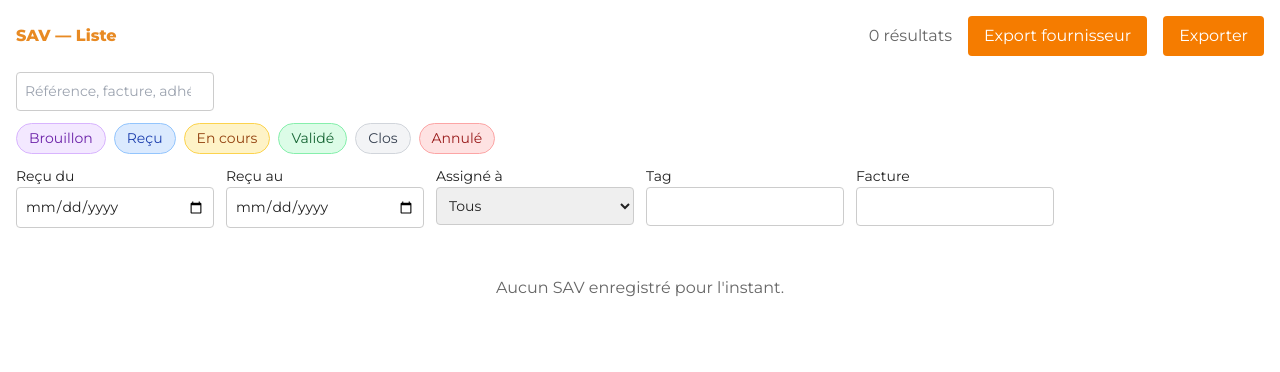
SavListView — Export CSV/XLSX (Story 5.4 AC #11) › TC-03: clic CSV → fetch /api/reports/export-csv?...&format=csv + toast success
Click the button with test id "btn-export-csv".
click(1214, 36)  # box x1=1163 y1=16 x2=1264 y2=56
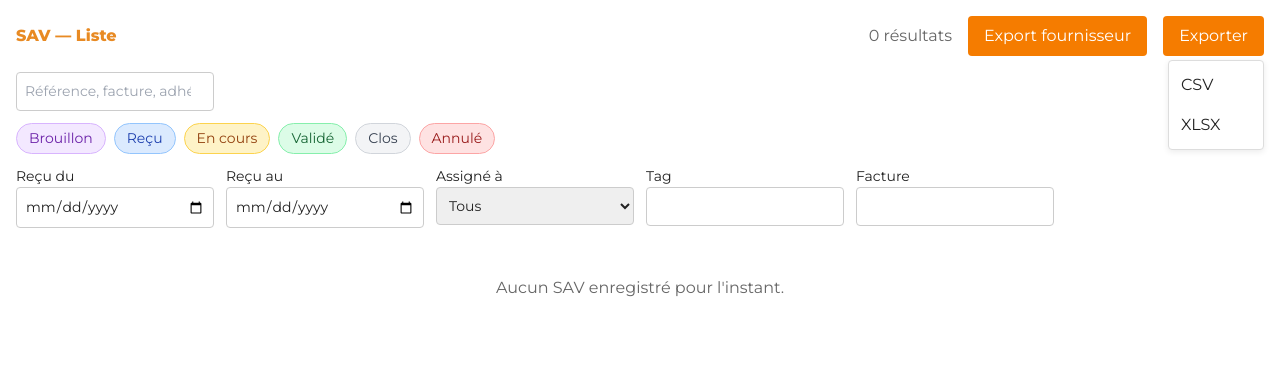
Click the menu item with test id "btn-export-csv-format".
click(1216, 85)  # box x1=1169 y1=65 x2=1263 y2=105
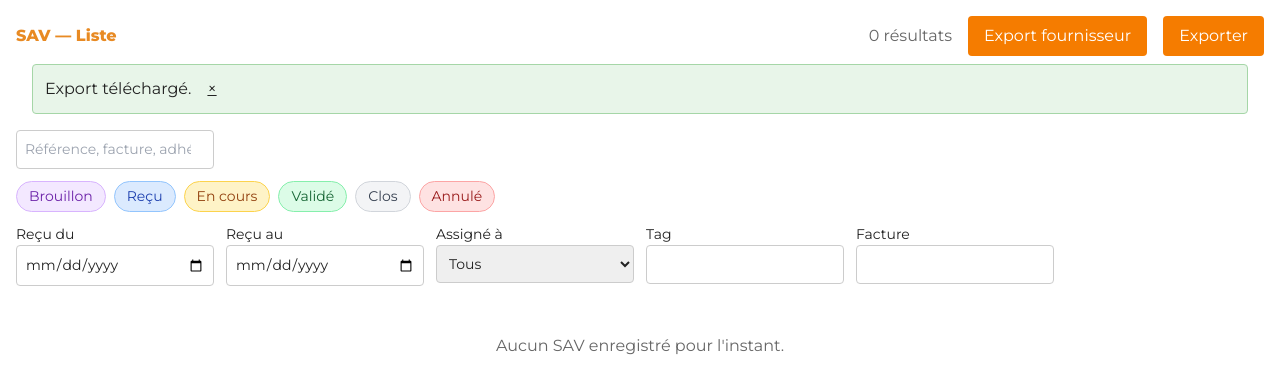
Now the message "Export téléchargé. ×" is shown, box x1=32 y1=64 x2=1248 y2=114
Now the message with test id "export-toast" shows "téléchargé", box x1=45 y1=79 x2=191 y2=98
